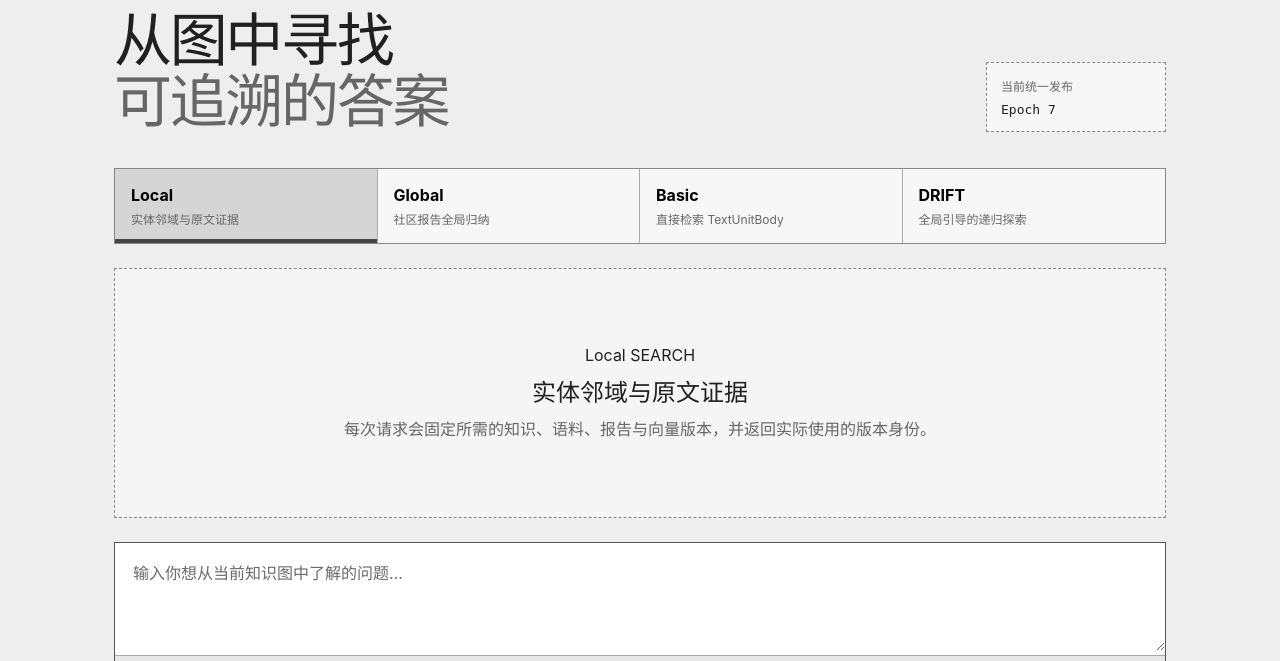
Test: SearchPage wireframe › accepts visible query text
Step 1. Type "查询当前知识图" into the text box with placeholder "输入你想从当前知识图中了解的问题…" → (640, 597), box [115,543,1165,651]
(page scrolled)
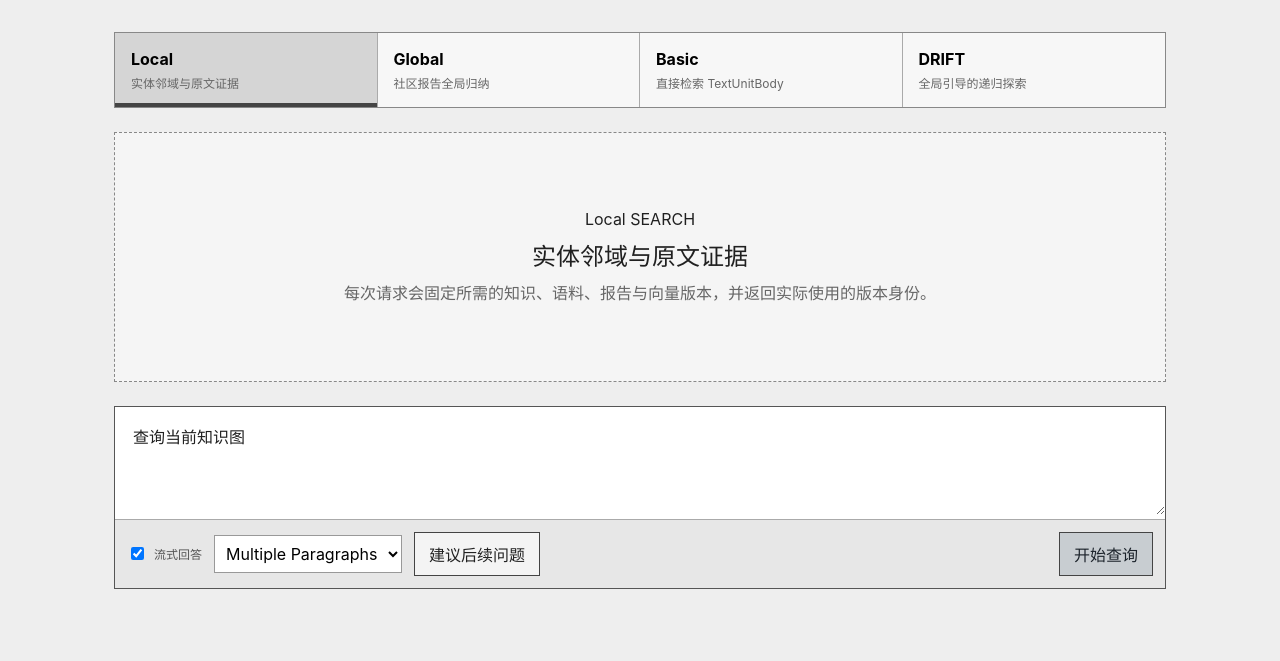
Expected: the button with class "submit-button" is enabled, [1059,532,1153,576]
